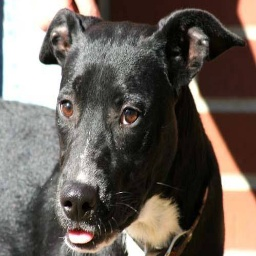dog: (30, 7, 226, 254)
